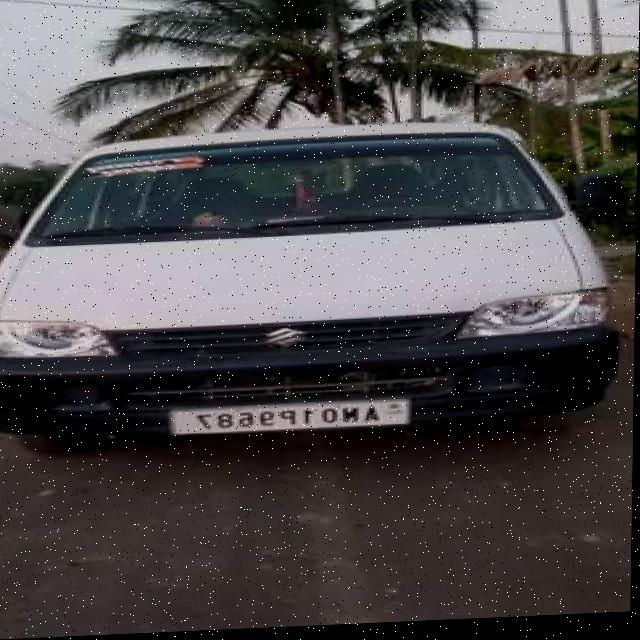plate: (170, 402, 413, 439)
